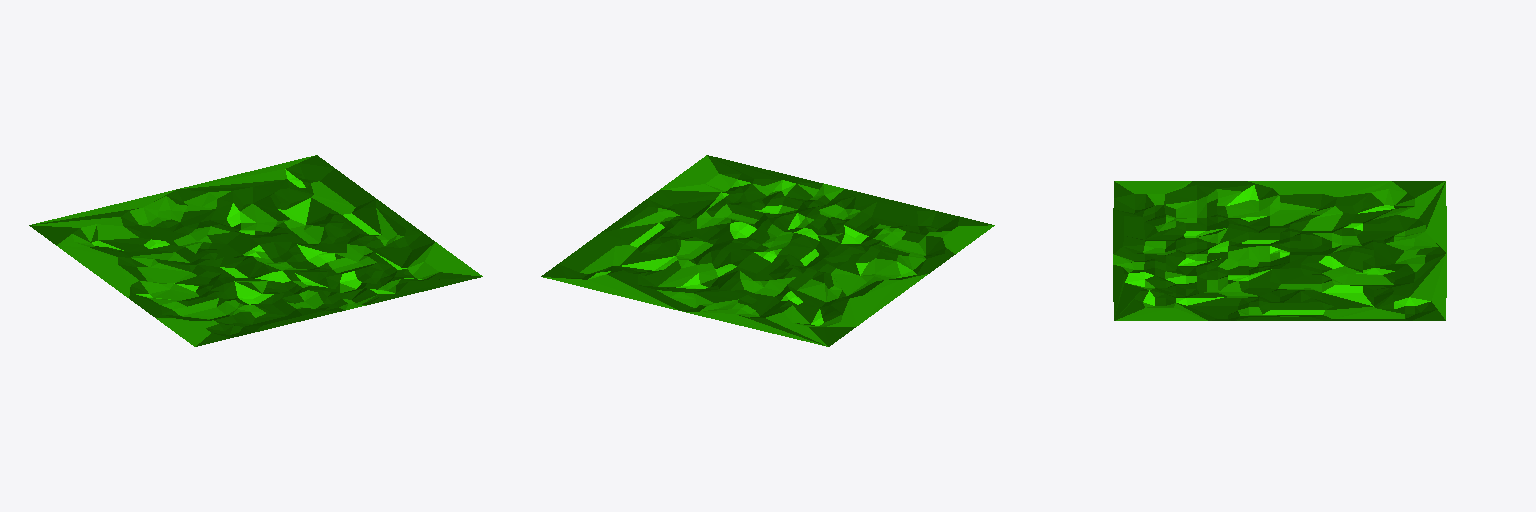
Rendered from Terrain04.obj.
3 renders of one model, left to right at view 1: azimuth 30°, elevation 25°; view 2: azimuth 150°, elevation 25°; view 3: azimuth 270°, elevation 25°, orthographic.
Parts seen in each view (by area): view 1: Plane.004; view 2: Plane.004; view 3: Plane.004.
Part boxes in pixels (bbox=[...]): Plane.004: bbox=[29, 155, 482, 346]; Plane.004: bbox=[541, 155, 994, 346]; Plane.004: bbox=[1113, 181, 1446, 320].
Size of the model in its own units: 50 by 1.97 by 50.01.